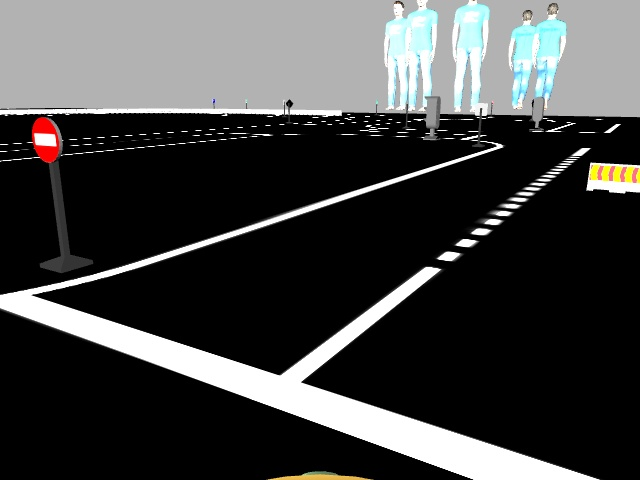ClosedRoadStand: (589, 161, 639, 192)
NoEntry: (30, 116, 64, 162)
